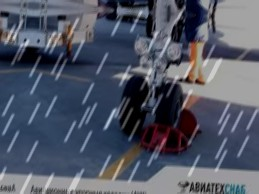chock: (138, 123, 193, 156), (178, 108, 203, 141)
wheel: (118, 74, 151, 135), (155, 81, 185, 129)
